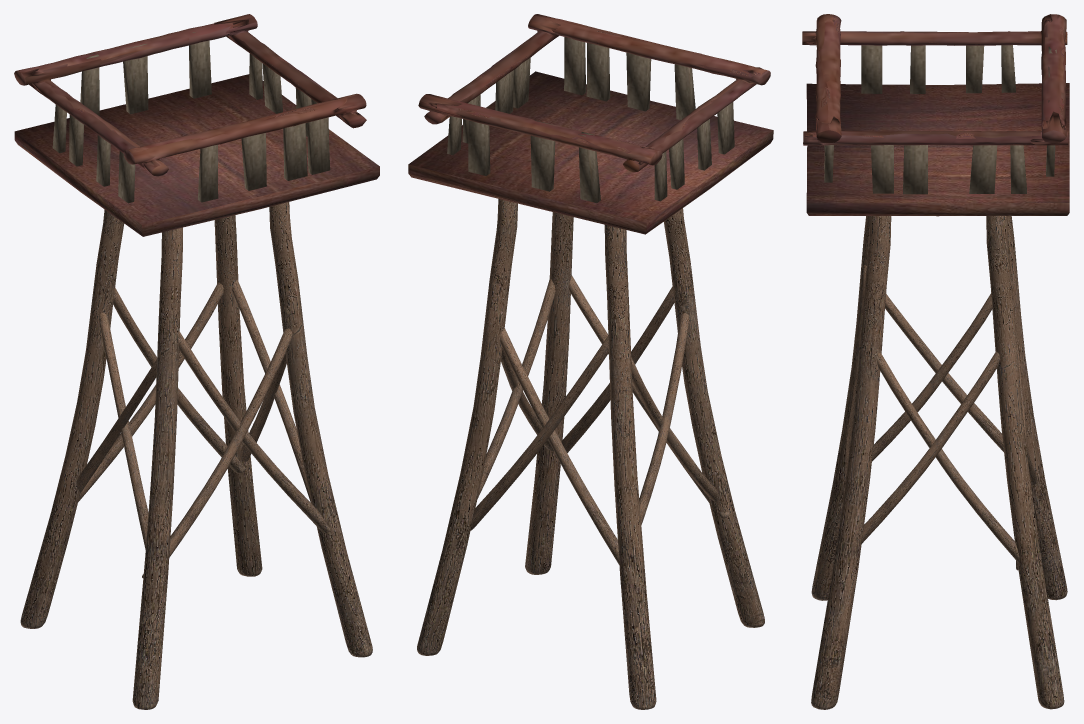
The model's file is lau dai go.fbx.
3 renders of one model, left to right at view 1: azimuth 30°, elevation 25°; view 2: azimuth 150°, elevation 25°; view 3: azimuth 270°, elevation 25°, orthographic. The views are drawn at different scales.
Parts seen in each view (by area): view 1: 6_low; view 2: 6_low; view 3: 6_low.
Boxes of the visible parts, x1,y1,x2,y2 form: 6_low: [14, 14, 379, 709]; 6_low: [408, 14, 773, 709]; 6_low: [802, 14, 1069, 709].
Size of the model in its own units: 479 by 1060 by 446.
